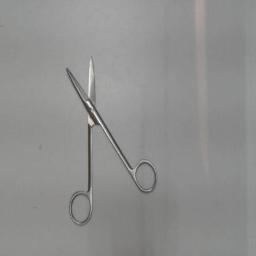Curved Mayo Scissors: (60, 48, 160, 230)
